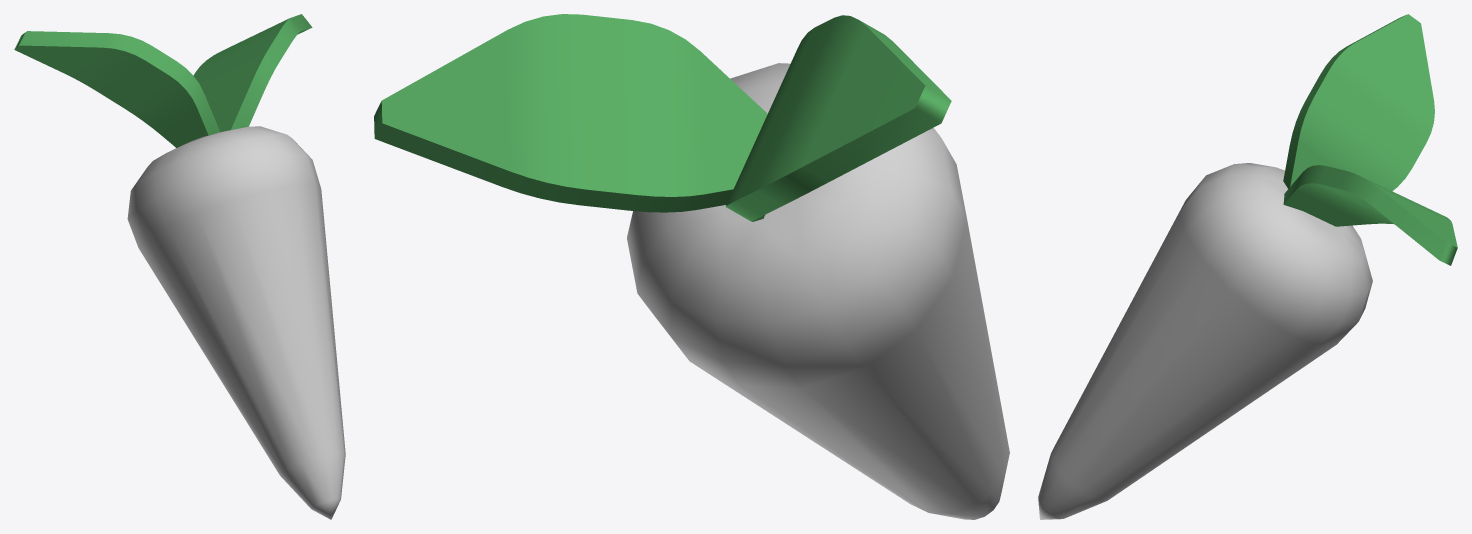
File: Carrot.fbx
3 views of the same model, side by side, from view 1: azimuth 30°, elevation 25°; view 2: azimuth 150°, elevation 25°; view 3: azimuth 270°, elevation 25° (orthographic). The views are drawn at different scales.
Parts seen in each view (by area): view 1: Carrot; view 2: Carrot; view 3: Carrot.
Boxes of the visible parts, x1=… form: Carrot: x1=14, y1=14, x2=345, y2=519; Carrot: x1=374, y1=14, x2=1009, y2=519; Carrot: x1=1038, y1=14, x2=1457, y2=519.
Size of the model in its own units: 48.5 by 59.64 by 52.04.
